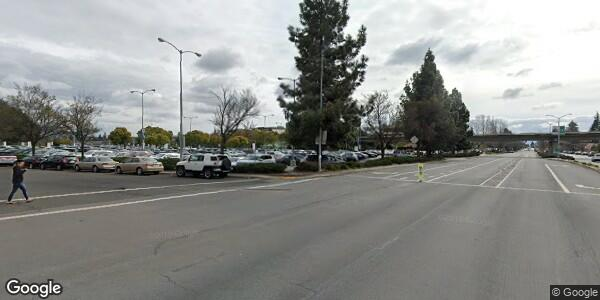Steel_Pole: (156, 35, 205, 169)
